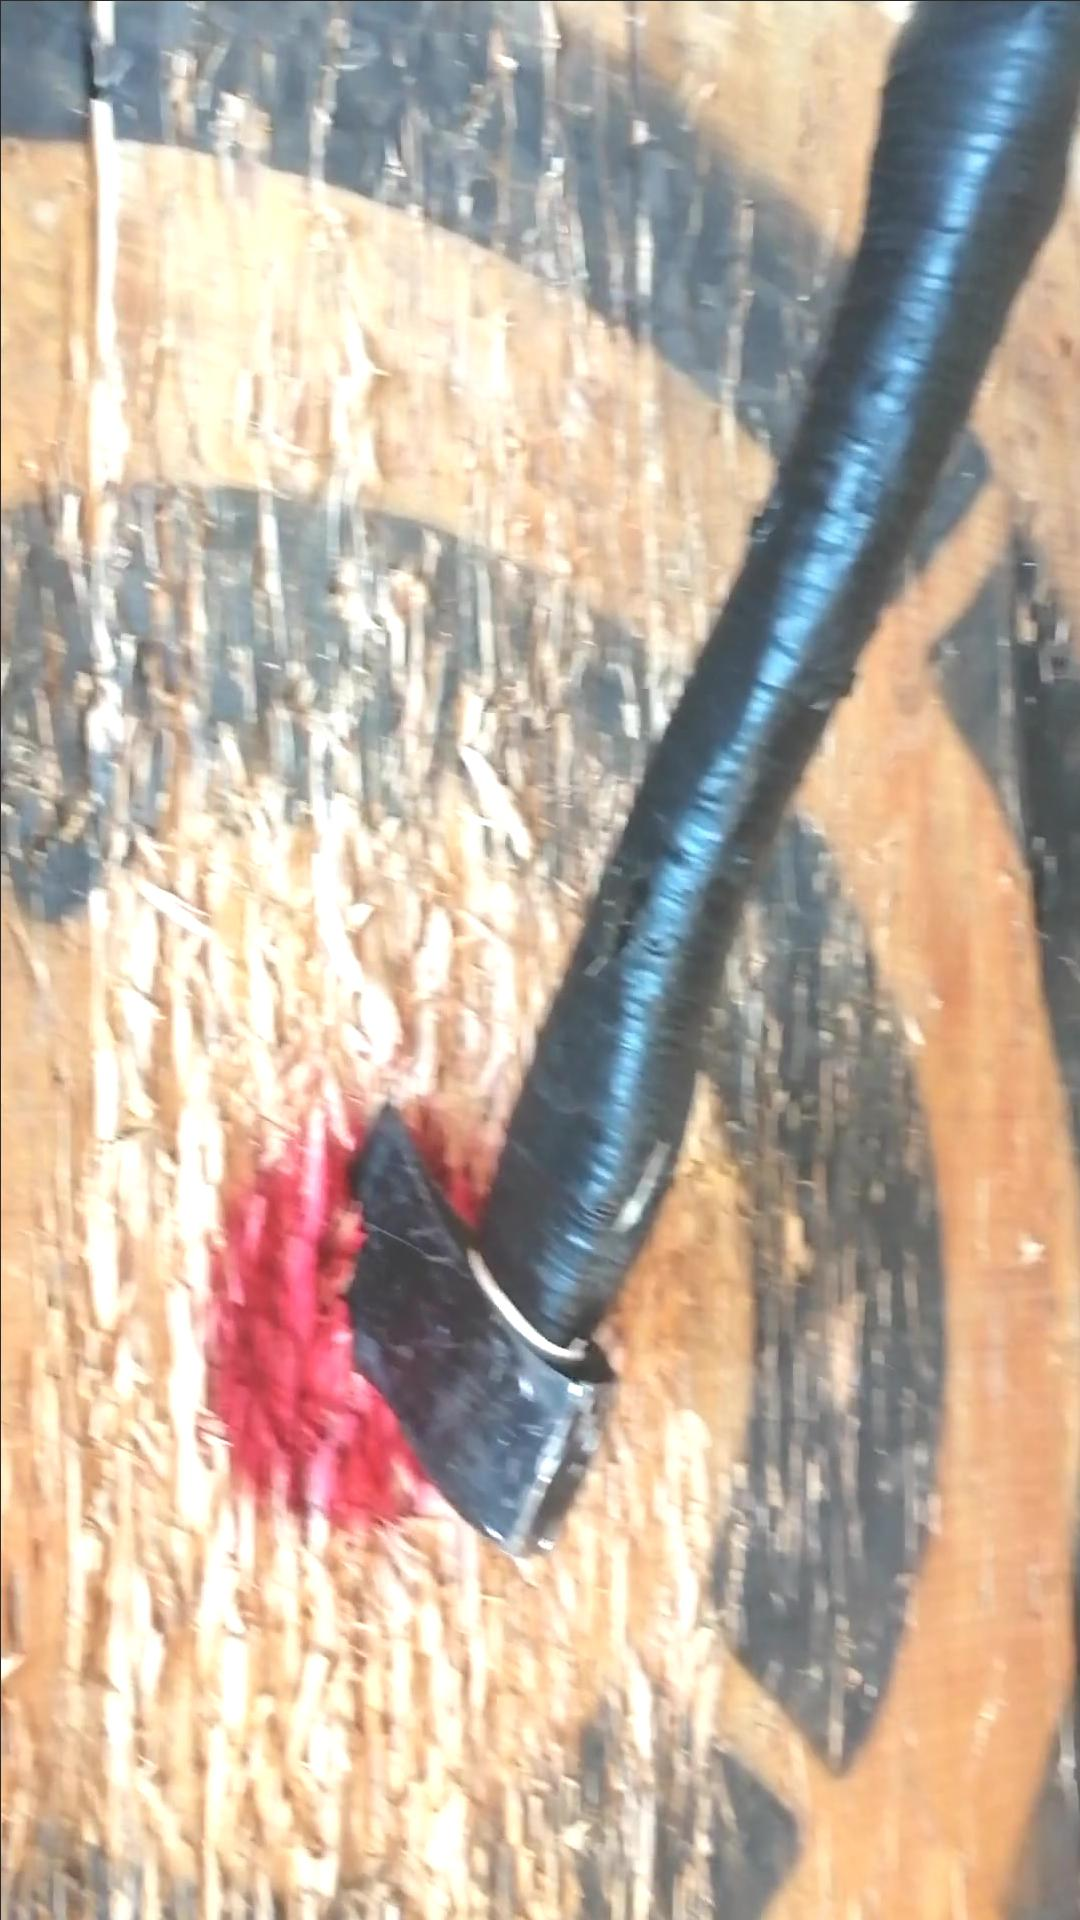Hand Axe: (330, 1098, 618, 1565)
